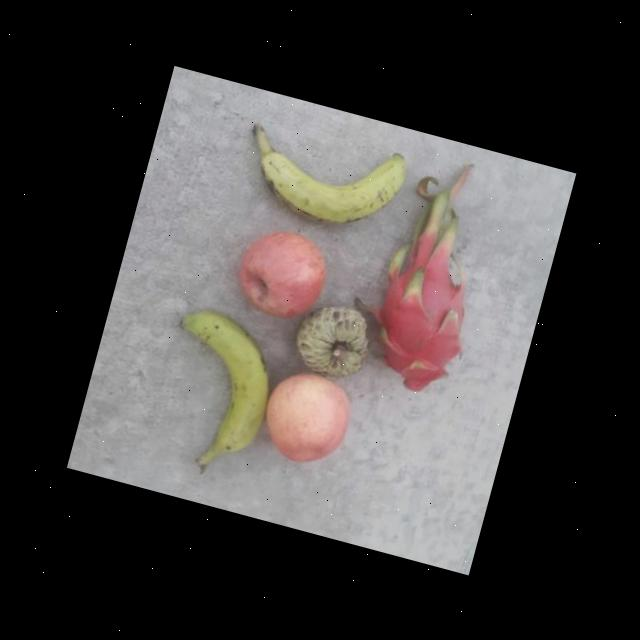Sakya fruit: (290, 286, 380, 386)
apple: (251, 358, 360, 472), (228, 221, 332, 325)
banana: (146, 302, 290, 474), (227, 116, 413, 247)
pitaya: (357, 252, 487, 407)
